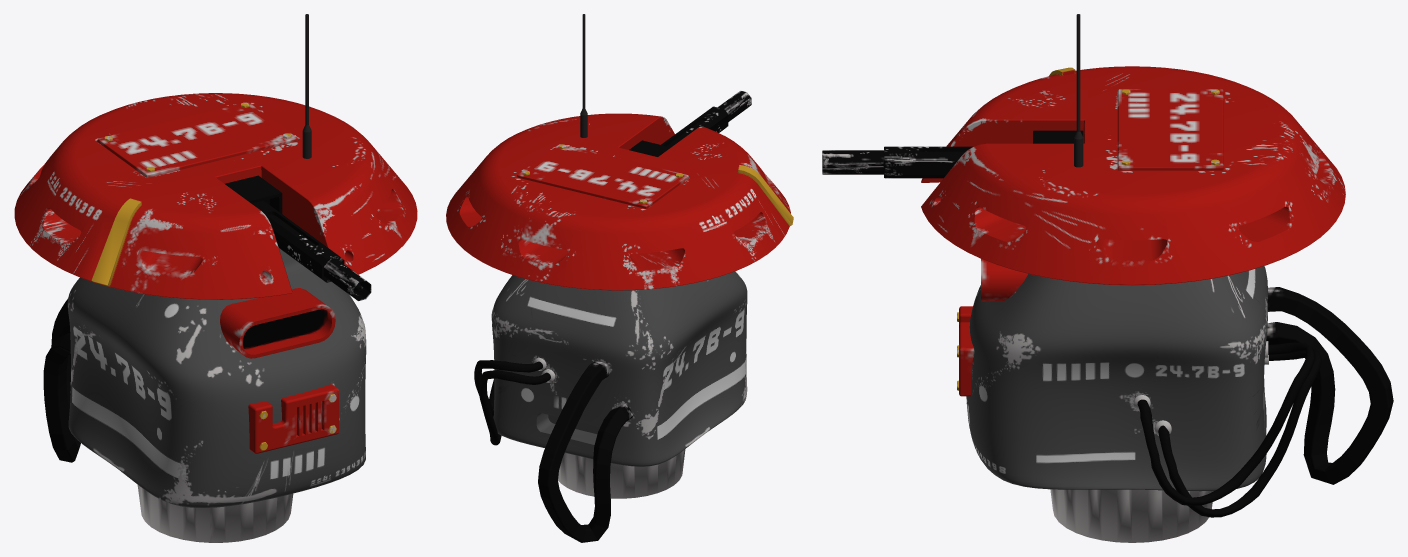
Rendered from Turret.gltf.
3 renders of one model, left to right at view 1: azimuth 30°, elevation 25°; view 2: azimuth 150°, elevation 25°; view 3: azimuth 270°, elevation 25°, orthographic. The views are drawn at different scales.
Visible parts, largest first — view 1: Head_Baked; view 2: Head_Baked; view 3: Head_Baked.
Part boxes in pixels (x1,y1,x2,y2): Head_Baked: [14, 14, 417, 542]; Head_Baked: [446, 14, 793, 542]; Head_Baked: [822, 14, 1393, 542].
Size of the model in its own units: 3.2 by 4.37 by 4.28.
Materials: 1 (1 with a texture image).
